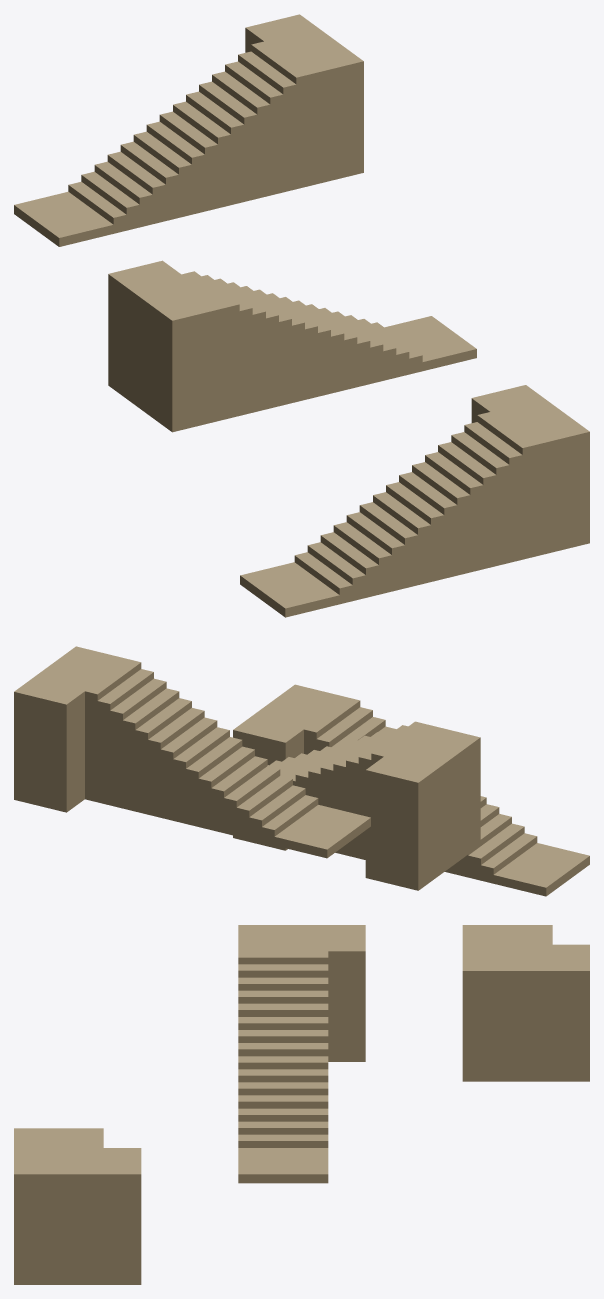
The model's file is alc_mid_stairs.glb.
The picture shows the model from 3 angles, top to bottom: view 1: azimuth 30°, elevation 25°; view 2: azimuth 150°, elevation 25°; view 3: azimuth 270°, elevation 25°; orthographic projection. The views are drawn at different scales.
Visible parts, largest first — view 1: alc_mid_stairs; view 2: alc_mid_stairs; view 3: alc_mid_stairs.
Boxes of the visible parts, <box> form: alc_mid_stairs: <box>14,14,589,617</box>; alc_mid_stairs: <box>14,646,589,896</box>; alc_mid_stairs: <box>14,925,589,1284</box>.
Bounding box in the file's own units: 7 × 6.95 × 11.55.
